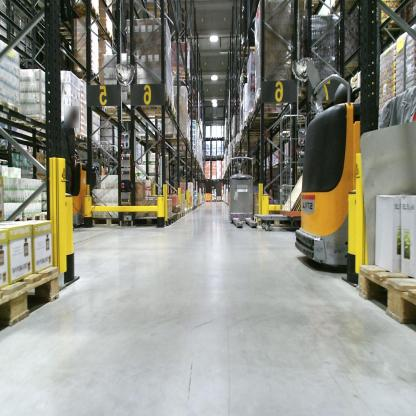pallet: (0, 266, 66, 336), (354, 263, 415, 329), (66, 62, 103, 86), (127, 93, 172, 111), (254, 90, 290, 108), (137, 104, 177, 119), (105, 108, 139, 125), (246, 112, 284, 127), (71, 5, 103, 22), (144, 1, 174, 17), (19, 113, 52, 127), (171, 62, 192, 81), (1, 98, 20, 119), (138, 131, 166, 145), (242, 122, 270, 136), (132, 216, 174, 225), (161, 132, 189, 144), (96, 28, 116, 43), (240, 133, 270, 143), (80, 133, 98, 147), (71, 128, 80, 140), (170, 205, 181, 213), (176, 212, 182, 220), (180, 210, 185, 219), (173, 213, 178, 221)
pallet_truck: (293, 65, 405, 273), (54, 142, 104, 230), (220, 149, 260, 233)
